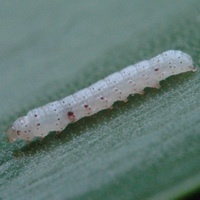insect: (8, 50, 194, 141)
